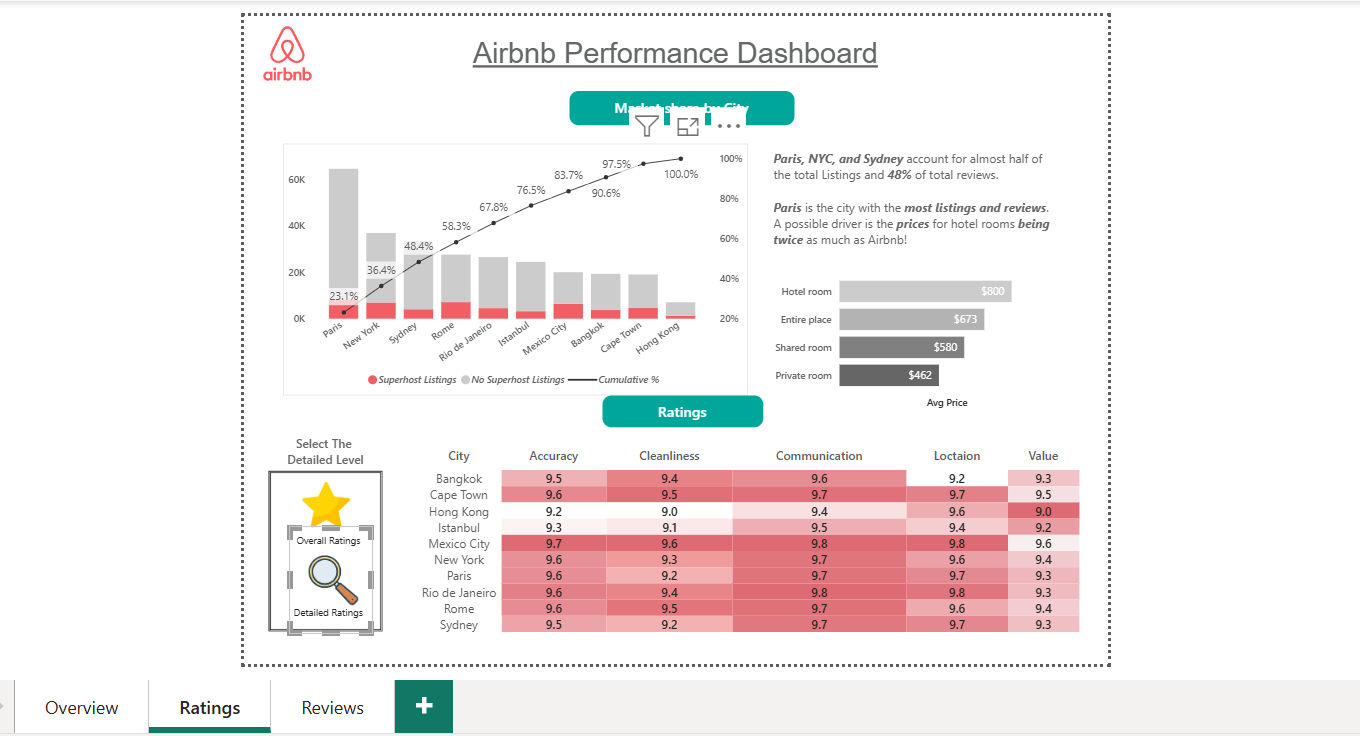

The dashboard page shown, as its layout file describes it:
{"tool":"powerbi","page":{"name":"Ratings","canvas":[960,720],"ordinal":1},"visuals":[{"type":"textbox","box":[200.8,0,558.3,83.3],"z":0},{"type":"image","box":[0,0,96.7,83.3],"z":1000},{"type":"textbox","box":[362.4,84,250,38],"z":2000},{"type":"textbox","box":[584,144,322,124],"z":3000},{"type":"textbox","box":[22.9,460,134.3,45.7],"z":3500},{"type":"lineStackedColumnComboChart","fields":{"Category":["Listings.city"],"Y":["Listings.Superhost Listings","Listings.No Superhost Listings"],"Y2":["Listings.Cumulative %"]},"box":[44,142,516,280],"z":4000},{"type":"barChart","fields":{"Y":["Listings.Avg Price"],"Category":["Listings.room_type"]},"box":[584,268,322,172],"z":5000},{"type":"textbox","box":[398.2,421.7,178.3,35],"z":6000},{"type":"image","box":[23.3,470,134.4,249.4],"z":7000},{"type":"columnChart","fields":{"Y":["Listings.Avg rating"],"Category":["Listings.city"]},"box":[186.2,472.8,761,229.9],"z":9000},{"type":"image","box":[54,483.2,72.7,119.3],"z":9000,"group":"g1"},{"type":"image","box":[71.3,567.2,55.3,120],"z":10000,"group":"g2"},{"type":"group","id":"g1","title":"Group 1","box":[52.7,483.2,94,119.3],"z":11000},{"type":"textbox","box":[52.7,566.5,94,28],"z":12000,"group":"g1"},{"type":"group","id":"g2","title":"Group 2","box":[49.3,567.2,94,120],"z":12000},{"type":"textbox","box":[49.3,647.9,94,28],"z":13000,"group":"g2"}]}

Visuals, with their boxes on the page's 960x720 design canvas (x1, y1, x2, y2). These are canvas units, not pixel positions in the 1360x736 screenshot, which may show the page scaled, cropped or inside an application window:
textbox: [left=201, top=0, right=759, bottom=83]
image: [left=0, top=0, right=97, bottom=83]
textbox: [left=362, top=84, right=612, bottom=122]
textbox: [left=584, top=144, right=906, bottom=268]
textbox: [left=23, top=460, right=157, bottom=506]
lineStackedColumnComboChart - Listings.city x Listings.Superhost Listings: [left=44, top=142, right=560, bottom=422]
barChart - Listings.Avg Price x Listings.room_type: [left=584, top=268, right=906, bottom=440]
textbox: [left=398, top=422, right=576, bottom=457]
image: [left=23, top=470, right=158, bottom=719]
columnChart - Listings.Avg rating x Listings.city: [left=186, top=473, right=947, bottom=703]
image: [left=54, top=483, right=127, bottom=602]
image: [left=71, top=567, right=127, bottom=687]
"Group 1" group: [left=53, top=483, right=147, bottom=602]
textbox: [left=53, top=566, right=147, bottom=594]
"Group 2" group: [left=49, top=567, right=143, bottom=687]
textbox: [left=49, top=648, right=143, bottom=676]
